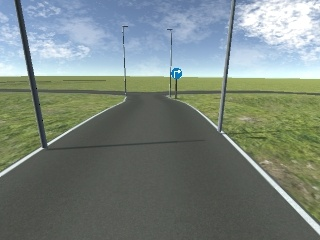TRight: (172, 67, 183, 80)
